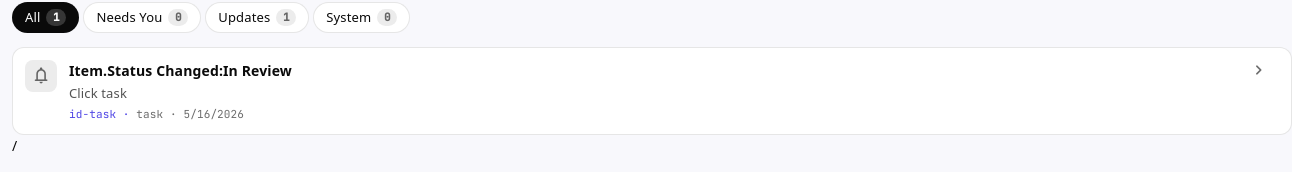
Test: InAppFeedTabContent › routes a task notification to its detail page
Click the text "Click task".
click(98, 93)  # box [69,84,127,102]
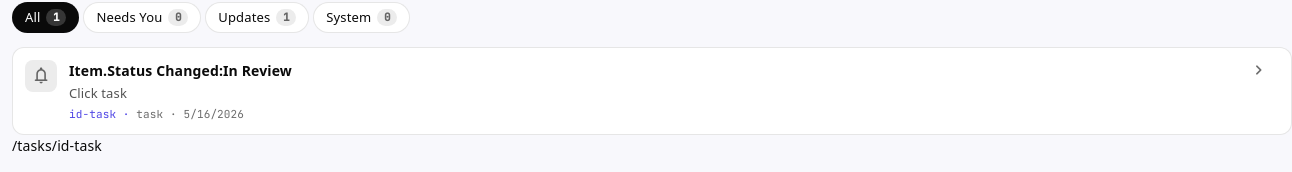
Now the text with test id "location" reads "/tasks/id-task", box [12,136,102,155]
